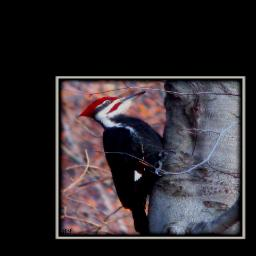Woodpecker: (78, 91, 177, 237)
